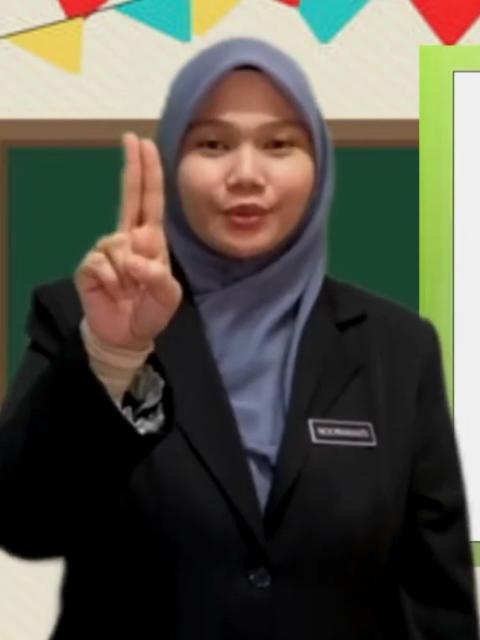U: (67, 124, 183, 346)
